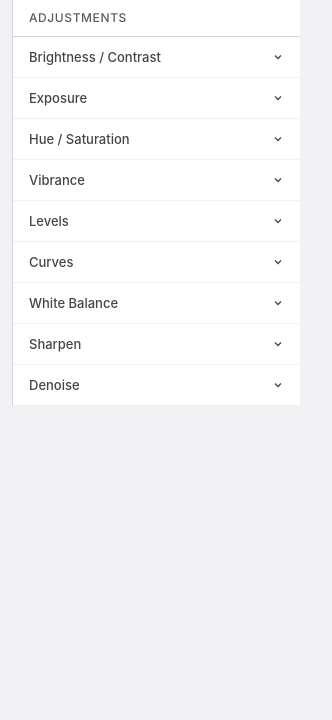
Test: AdjustmentsPanel — curves › draws the curve editor
The width and height of the screenshot is (332, 720).
Click the button "Curves": x=51, y=262 [13, 242, 300, 282]
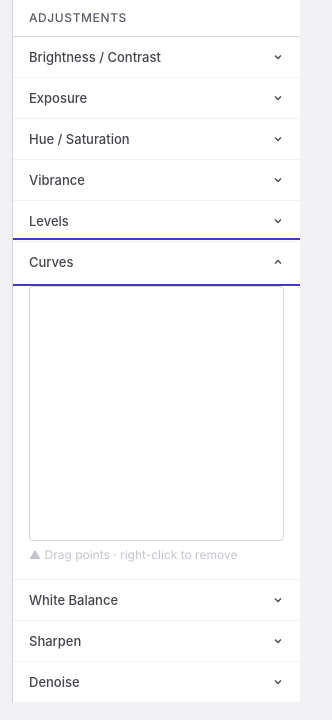
Check: the drawing is shown, box [29, 286, 284, 541]
